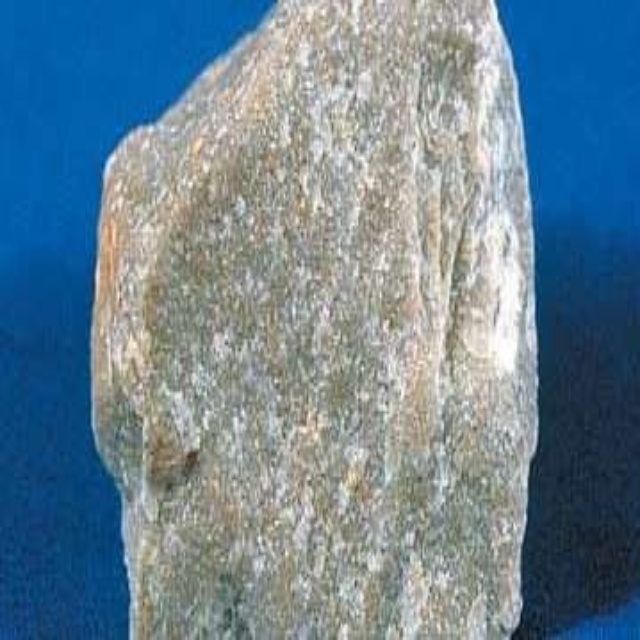obstacle: (93, 3, 537, 634)
